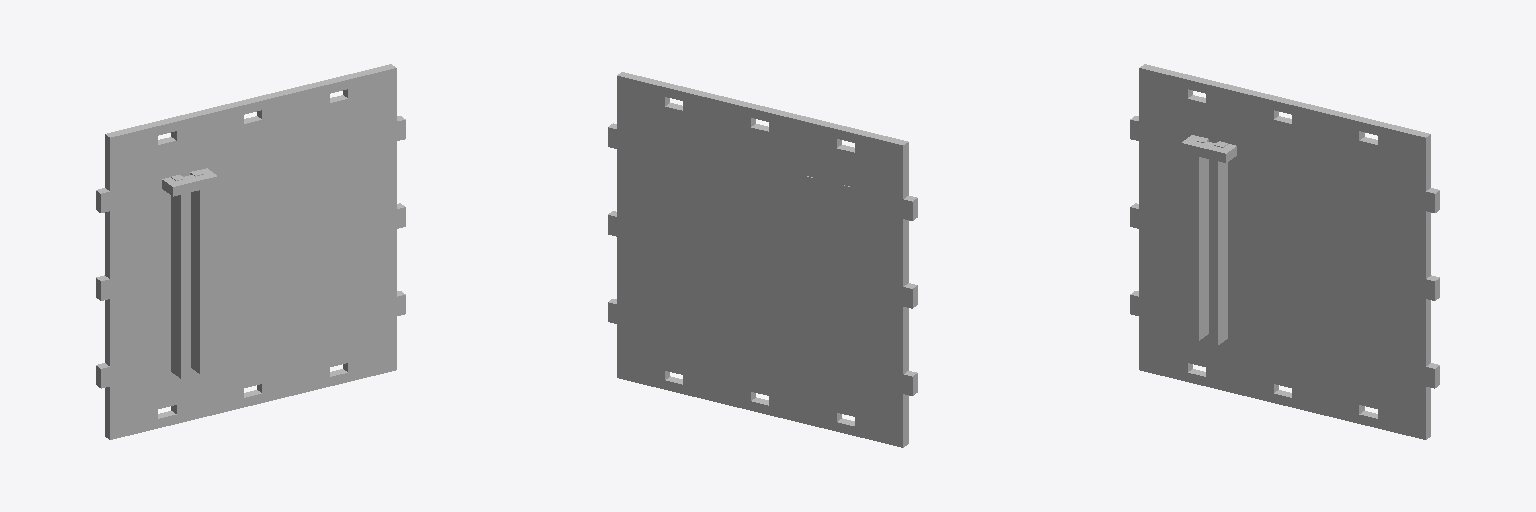
The model's file is Left.obj.
3 views of the same model, side by side, from view 1: azimuth 30°, elevation 25°; view 2: azimuth 150°, elevation 25°; view 3: azimuth 330°, elevation 25° (orthographic).
Parts seen in each view (by area): view 1: obj1; view 2: obj1; view 3: obj1.
Part boxes in pixels (x1,y1,x2,y2): obj1: (96,64,405,439); obj1: (608,72,917,447); obj1: (1130,64,1439,439).
Size of the model in its own units: 100 by 95 by 9.